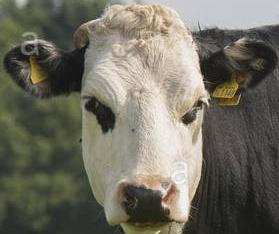muzzles: (101, 175, 193, 232)
